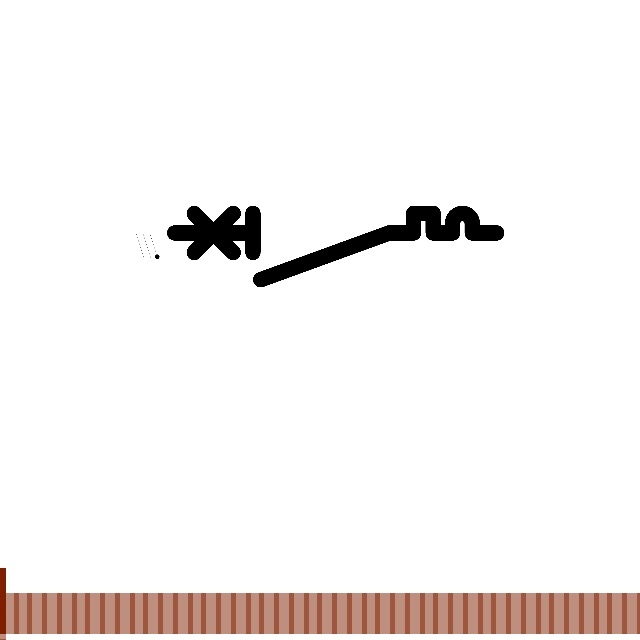interruptor_termomagnetico: (166, 205, 505, 288)
